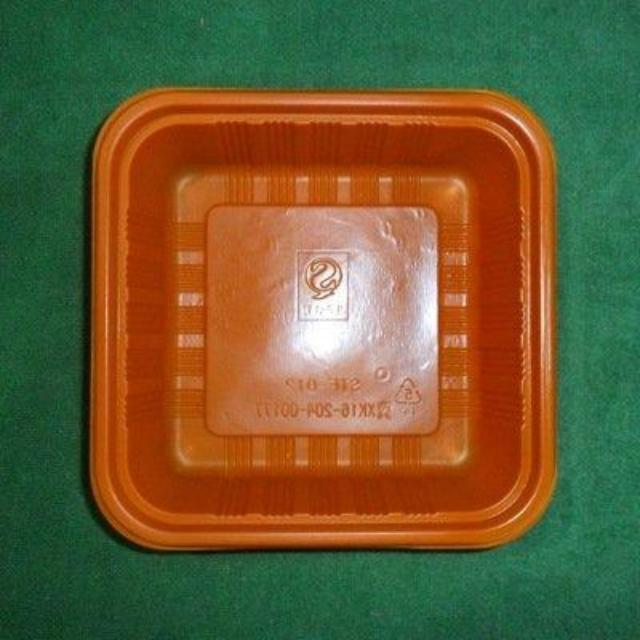plastic_box: (83, 82, 561, 554)
